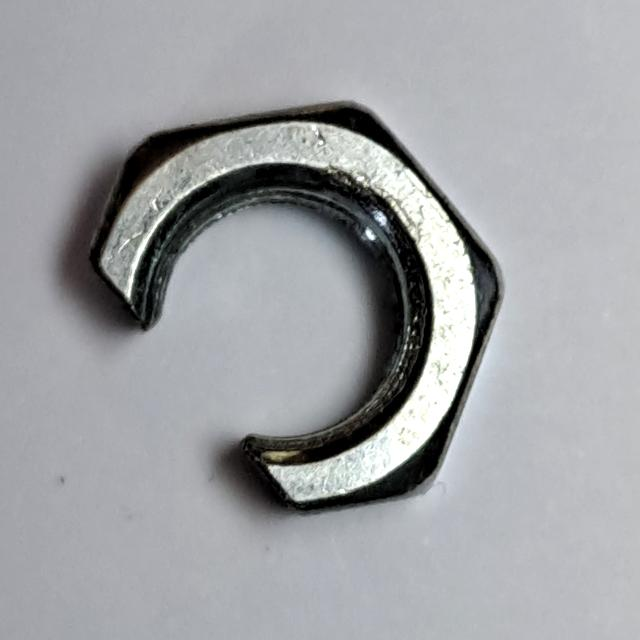Fracture: (77, 90, 513, 527)
